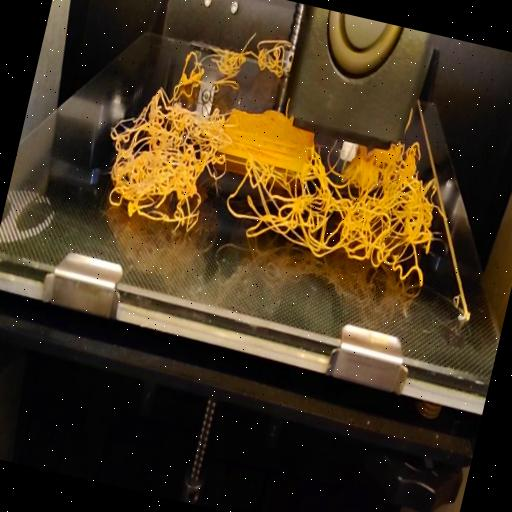spaghetti: (90, 74, 456, 294), (175, 8, 295, 109)
